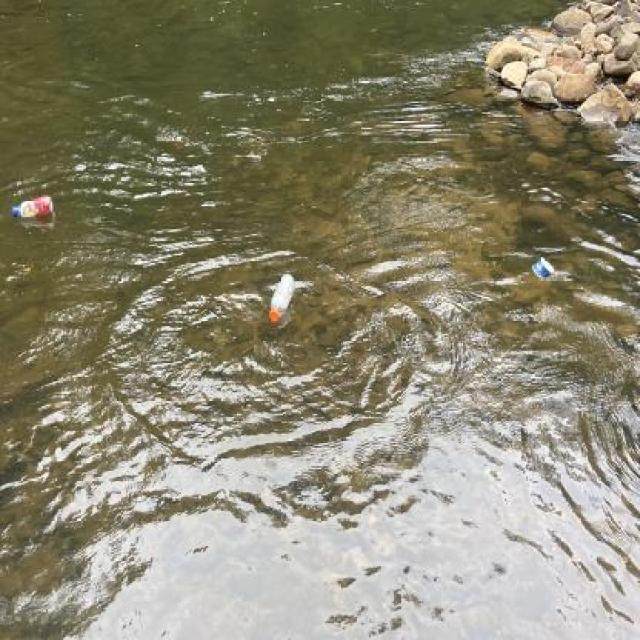Paper: (527, 252, 559, 286)
Plastic: (8, 192, 58, 230), (265, 266, 296, 326)
